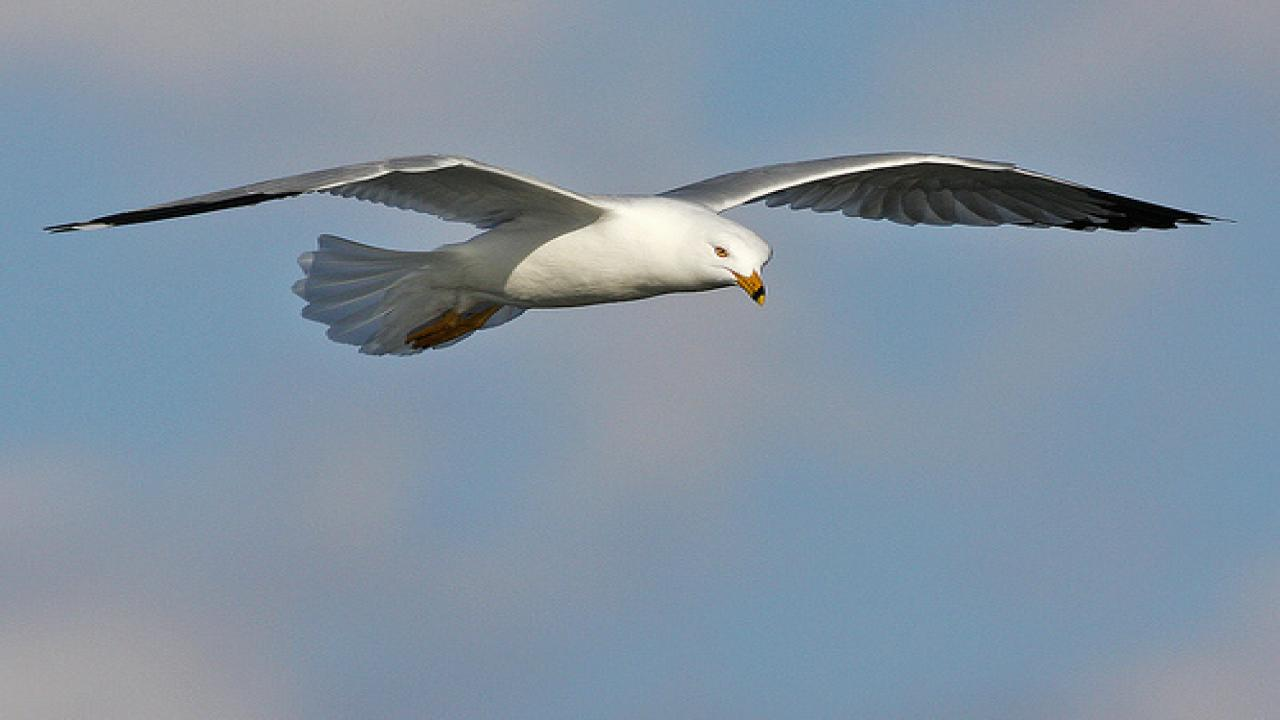Bird: (24, 138, 1249, 369)
